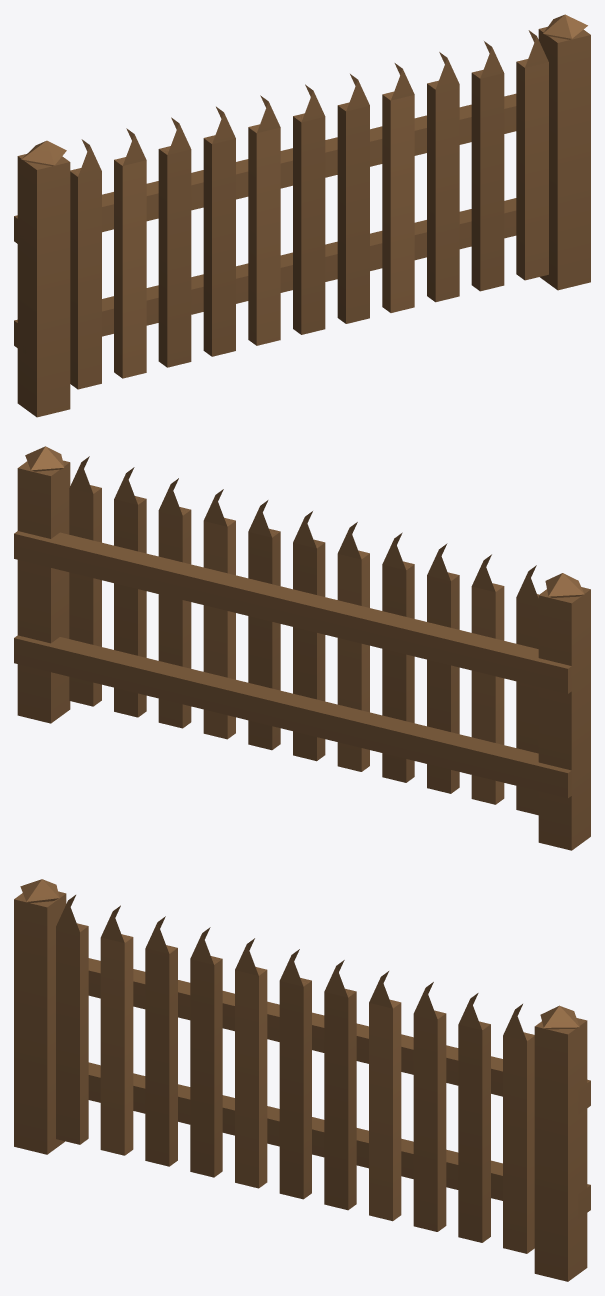
The model's file is town_fence_wood.glb.
The picture shows the model from 3 angles, top to bottom: view 1: azimuth 30°, elevation 25°; view 2: azimuth 150°, elevation 25°; view 3: azimuth 330°, elevation 25°; orthographic projection.
Visible parts, largest first — view 1: town_fence_wood; view 2: town_fence_wood; view 3: town_fence_wood.
Part boxes in pixels (x1,y1,x2,y2): town_fence_wood: [14, 14, 590, 417]; town_fence_wood: [14, 446, 590, 850]; town_fence_wood: [14, 879, 590, 1281].
Bounding box in the file's own units: 3.05 × 1.38 × 0.24.
